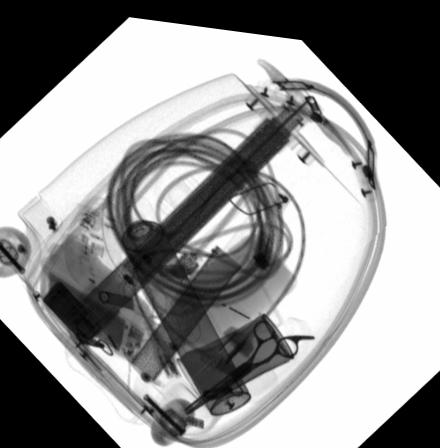Lighter: (42, 280, 102, 342)
Powerbank: (38, 261, 149, 365)
Scissors: (180, 311, 316, 411)
Sprayer: (104, 189, 250, 410)
